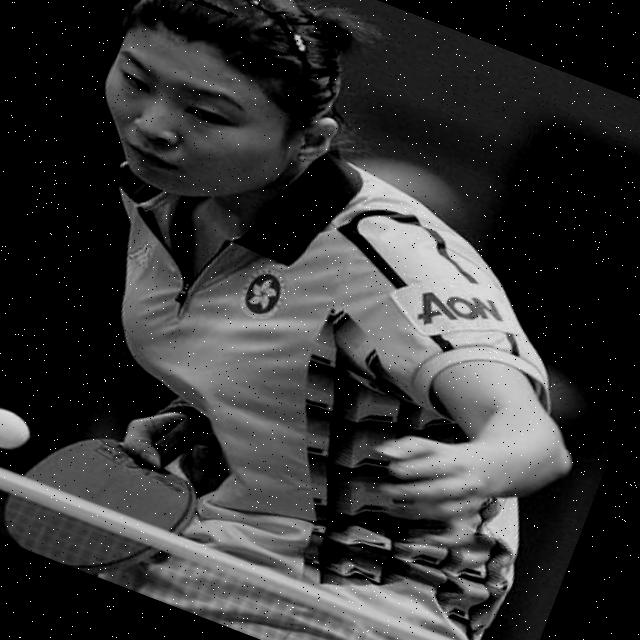ping-pong-ball: (0, 399, 38, 457)
